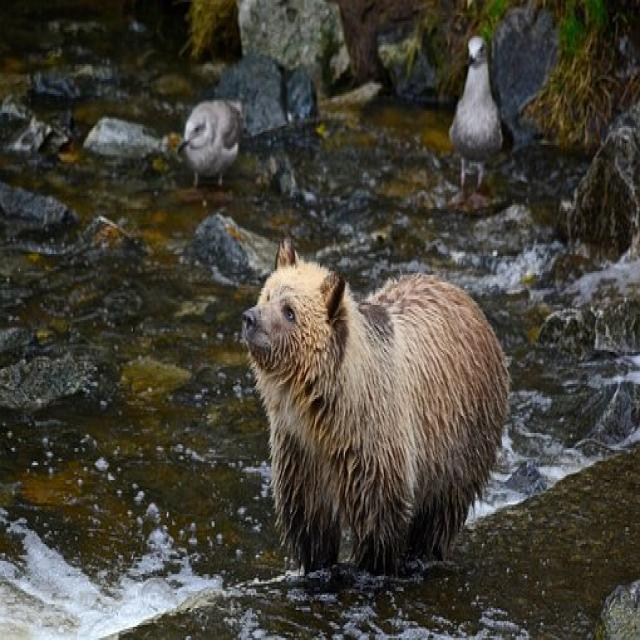Bear: (240, 239, 512, 582)
